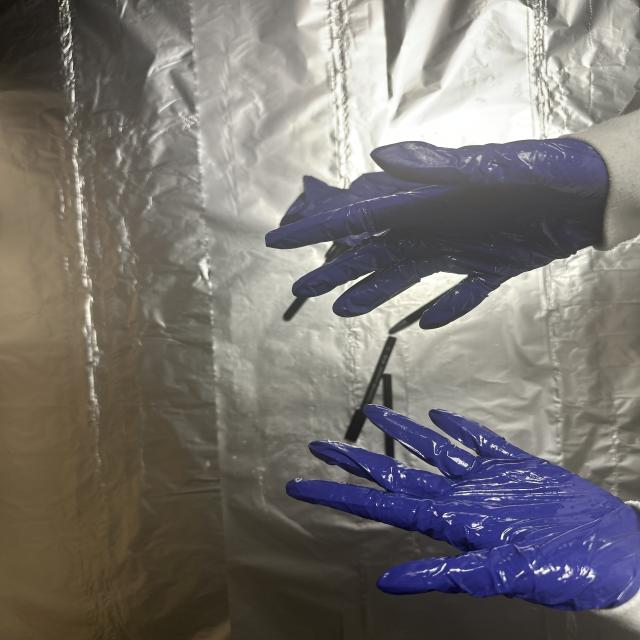gloves_contaminated: (286, 405, 640, 610), (266, 138, 608, 329)
